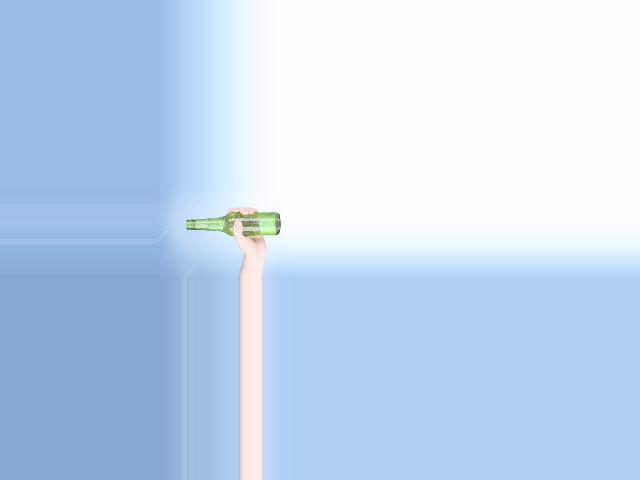beer: (185, 213, 280, 235)
